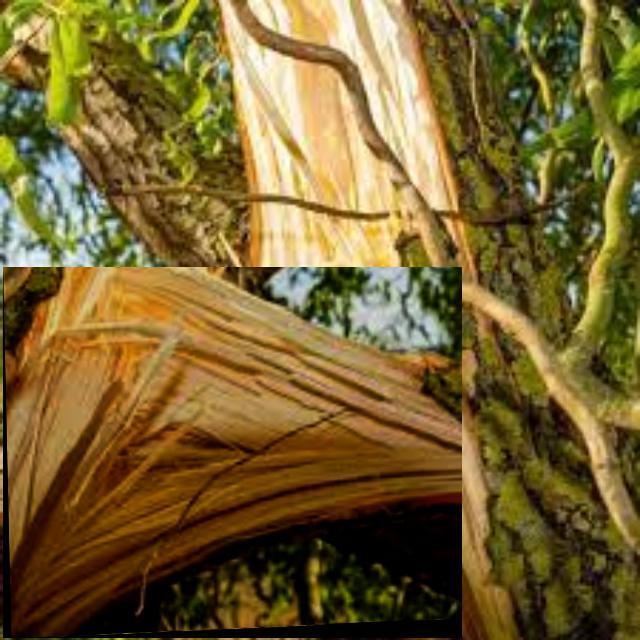fallen_tree: (3, 267, 463, 639)
